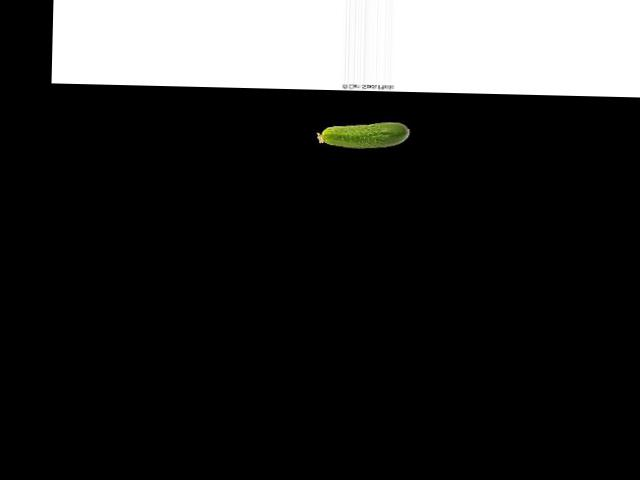cucumber: (317, 120, 410, 149)
